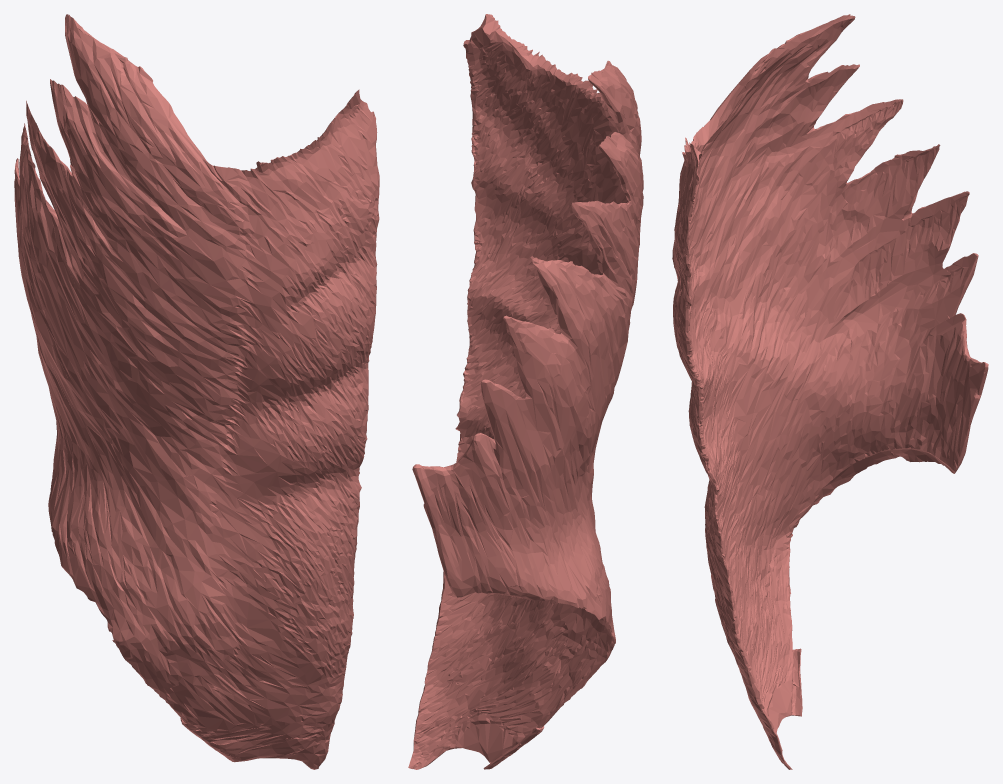
3 renders of one model, left to right at view 1: azimuth 30°, elevation 25°; view 2: azimuth 150°, elevation 25°; view 3: azimuth 270°, elevation 25°, orthographic. The views are drawn at different scales.
Visible parts, largest first — view 1: ZA_a0399c244657672b; view 2: ZA_a0399c244657672b; view 3: ZA_a0399c244657672b.
Part boxes in pixels (bbox=[...]): ZA_a0399c244657672b: bbox=[14, 14, 379, 769]; ZA_a0399c244657672b: bbox=[408, 14, 643, 769]; ZA_a0399c244657672b: bbox=[672, 14, 988, 769].
Size of the model in its own units: 0.1362 by 0.4188 by 0.18.
